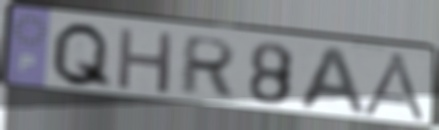8: (248, 41, 296, 107)
A: (293, 44, 372, 118), (357, 52, 433, 125)
H: (114, 25, 177, 97)
Q: (47, 21, 115, 92)
R: (175, 34, 239, 99)
